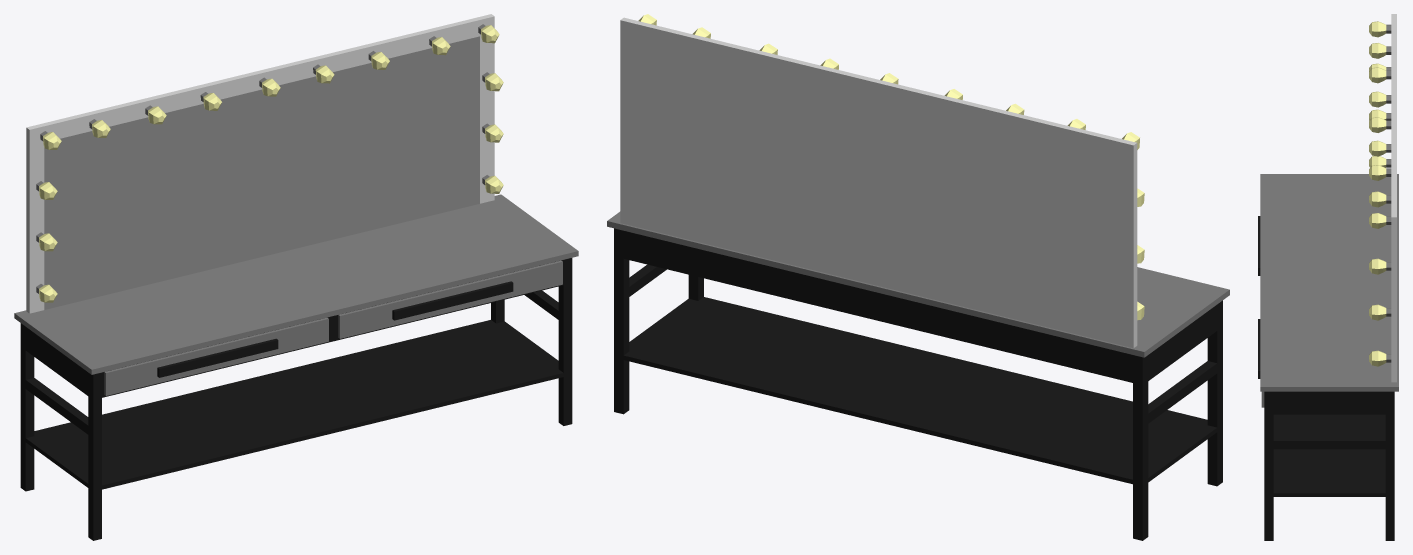
File: Int_MakeupDesk01_2.fbx
3 renders of one model, left to right at view 1: azimuth 30°, elevation 25°; view 2: azimuth 150°, elevation 25°; view 3: azimuth 270°, elevation 25°, orthographic. The views are drawn at different scales.
Parts seen in each view (by area): view 1: Int_DressingRoom_Table01_2; view 2: Int_DressingRoom_Table01_2; view 3: Int_DressingRoom_Table01_2.
Boxes of the visible parts, left/top/right/bottom form: Int_DressingRoom_Table01_2: left=14, top=14, right=578, bottom=540; Int_DressingRoom_Table01_2: left=607, top=14, right=1229, bottom=540; Int_DressingRoom_Table01_2: left=1258, top=14, right=1398, bottom=540.
Size of what is drawn, in the model's own units: 274 by 76.62 by 192.
